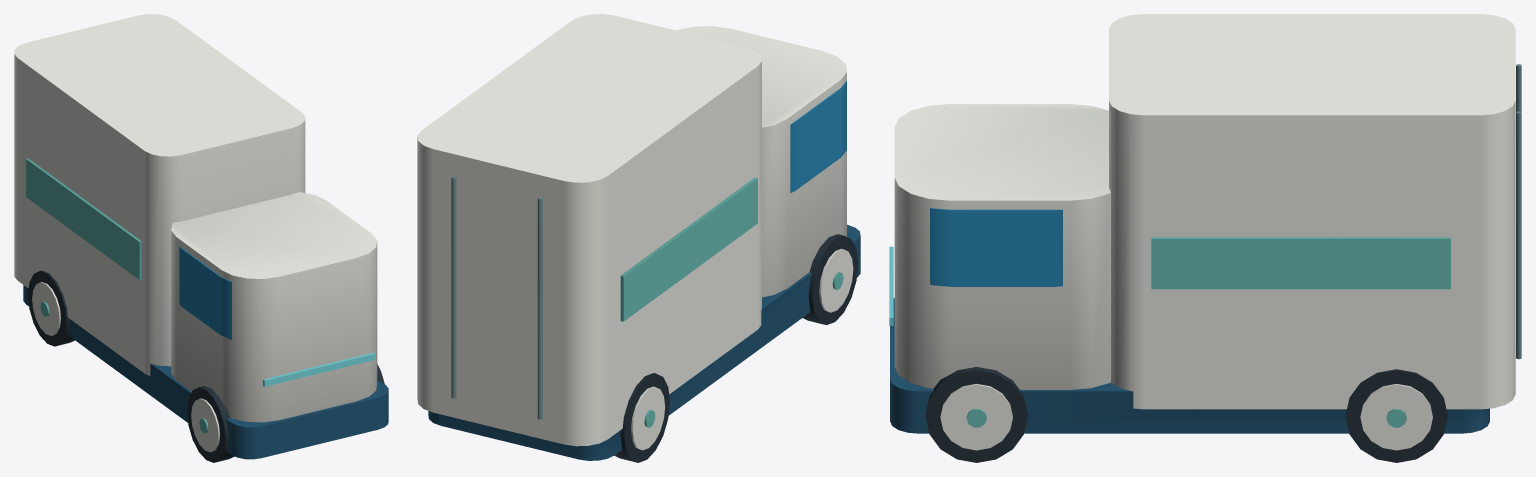
Rendered from delivery-truck-low.glb.
The picture shows the model from 3 angles, left to right: view 1: azimuth 30°, elevation 25°; view 2: azimuth 150°, elevation 25°; view 3: azimuth 270°, elevation 25°; orthographic projection. The views are drawn at different scales.
Parts seen in each view (by area): view 1: electric truck cabin, truck chassis, wheel centre, truck glass, electric tire, truck LED bar; view 2: electric truck cabin, wheel centre, truck chassis, truck glass, electric tire, cargo rear lock; view 3: electric truck cabin, wheel centre, truck chassis, truck glass, electric tire, cargo rear lock.
Boxes of the visible parts, x1,y1,x2,y2 form: electric truck cabin: (14, 14, 377, 452); truck chassis: (23, 285, 388, 459); wheel centre: (26, 158, 208, 433); truck glass: (179, 246, 231, 339); electric tire: (28, 270, 384, 462); truck LED bar: (263, 352, 375, 386); electric truck cabin: (417, 14, 853, 450); wheel centre: (620, 177, 843, 427); truck chassis: (428, 224, 860, 460); truck glass: (790, 81, 846, 193); electric tire: (614, 234, 858, 462); cargo rear lock: (451, 176, 542, 419); electric truck cabin: (894, 14, 1515, 450); wheel centre: (966, 237, 1450, 427); truck chassis: (890, 298, 1489, 433); truck glass: (930, 208, 1062, 286); electric tire: (925, 367, 1447, 462); cargo rear lock: (1516, 64, 1521, 359).
Bounding box in the file's own units: 1.15 × 1.72 × 2.85.
